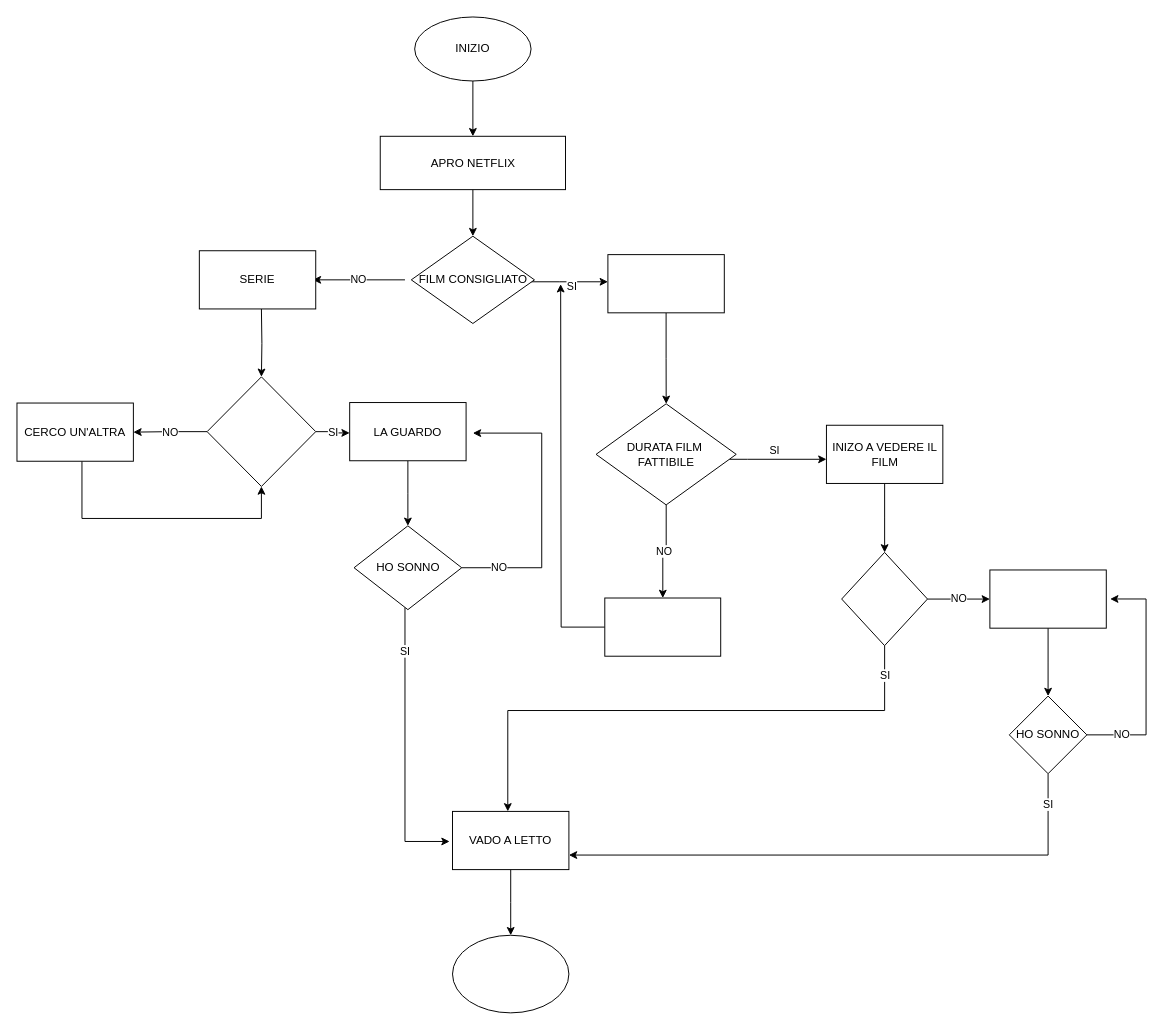
Some shapes in this 1171 by 1030 pixel diagram are drawn without their labels. Each missing label, with the box of its shape:
CERCO UN'ALTRO FILM: (604, 597, 721, 656)
CONTINUO A VEDERE: (989, 569, 1106, 628)
CONTROLLARE DURATA FILM SE E'FATTIBILE: (607, 254, 724, 313)
FILM FINITO: (841, 551, 928, 646)
FINE: (452, 934, 569, 1013)
MI PIACE: (206, 376, 316, 486)
